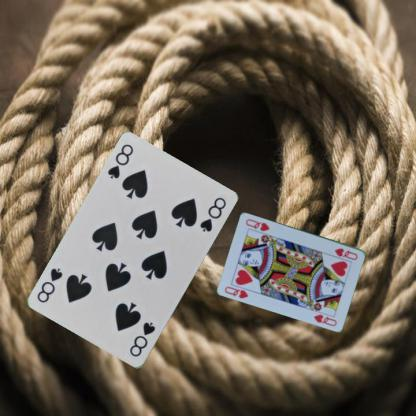8s: (127, 319, 157, 359), (104, 141, 134, 181)
Qh: (222, 284, 250, 300), (332, 246, 359, 261)
